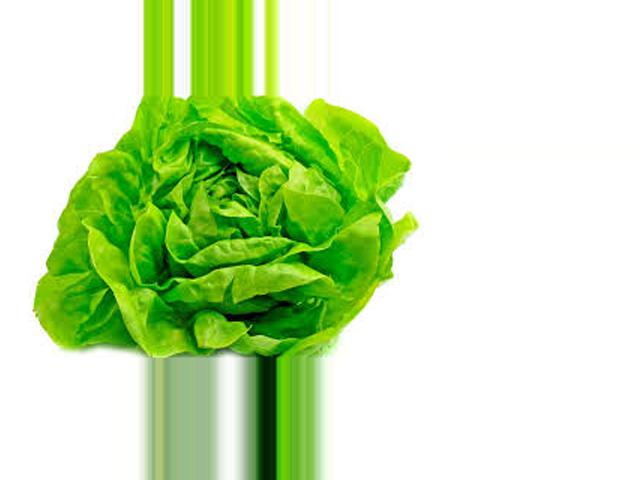lettuce: (25, 95, 400, 359)
